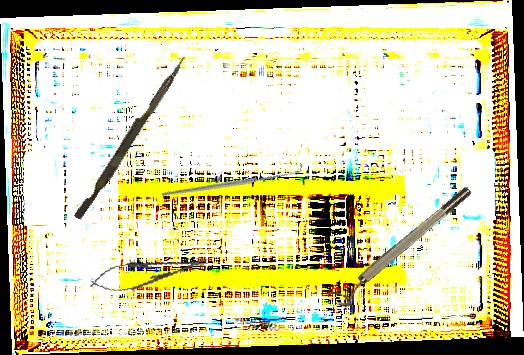Fixation Ring: (328, 183, 479, 312)
Hook Surgical: (161, 121, 303, 240)
Needle Holder: (87, 247, 212, 299)
Pusher: (73, 52, 188, 223)
